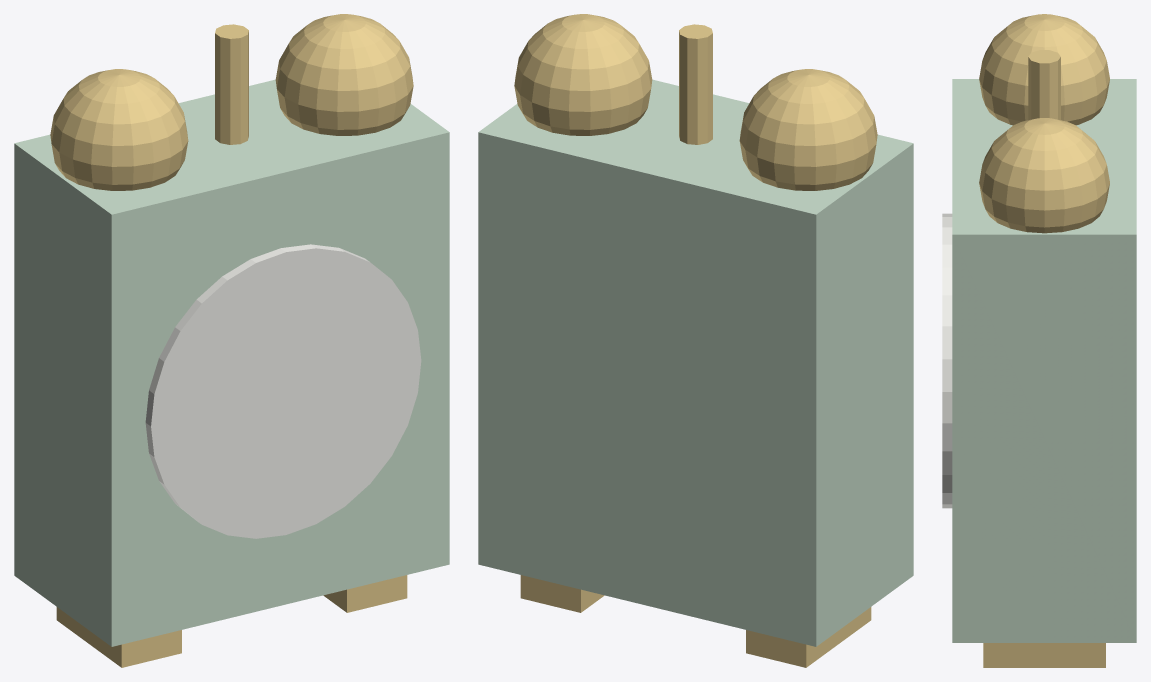
Rendered from item_32_alarm_clock.glb.
3 renders of one model, left to right at view 1: azimuth 30°, elevation 25°; view 2: azimuth 150°, elevation 25°; view 3: azimuth 270°, elevation 25°, orthographic. The views are drawn at different scales.
Parts seen in each view (by area): view 1: I32_Body, I32_Face, I32_Bell0, I32_Bell1, I32_Hammer, I32_Leg0, I32_Leg1; view 2: I32_Body, I32_Bell0, I32_Bell1, I32_Hammer, I32_Leg0, I32_Leg1; view 3: I32_Body, I32_Bell1, I32_Bell0, I32_Face, I32_Leg1, I32_Hammer.
Part boxes in pixels (<box>): I32_Body: <box>14,79,449,646</box>; I32_Face: <box>145,244,421,538</box>; I32_Bell0: <box>50,69,188,190</box>; I32_Bell1: <box>275,14,413,135</box>; I32_Hammer: <box>215,24,248,144</box>; I32_Leg0: <box>56,607,181,667</box>; I32_Leg1: <box>323,575,407,612</box>; I32_Body: <box>478,79,913,646</box>; I32_Bell0: <box>739,69,877,190</box>; I32_Bell1: <box>514,14,652,135</box>; I32_Hammer: <box>679,24,712,144</box>; I32_Leg0: <box>746,607,871,667</box>; I32_Leg1: <box>520,575,604,612</box>; I32_Body: <box>952,79,1136,642</box>; I32_Bell1: <box>979,118,1109,233</box>; I32_Bell0: <box>979,14,1109,125</box>; I32_Face: <box>942,213,952,508</box>; I32_Leg1: <box>983,643,1105,667</box>; I32_Hammer: <box>1028,50,1060,120</box>.
Bounding box in the file's own units: 0.092 × 0.147 × 0.0475.
